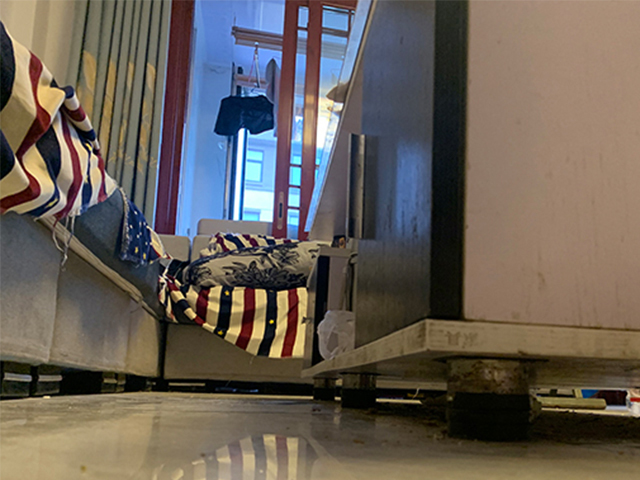curtain: (69, 1, 170, 225)
sofa: (1, 25, 181, 396), (166, 218, 313, 391)
table: (299, 1, 640, 442)
